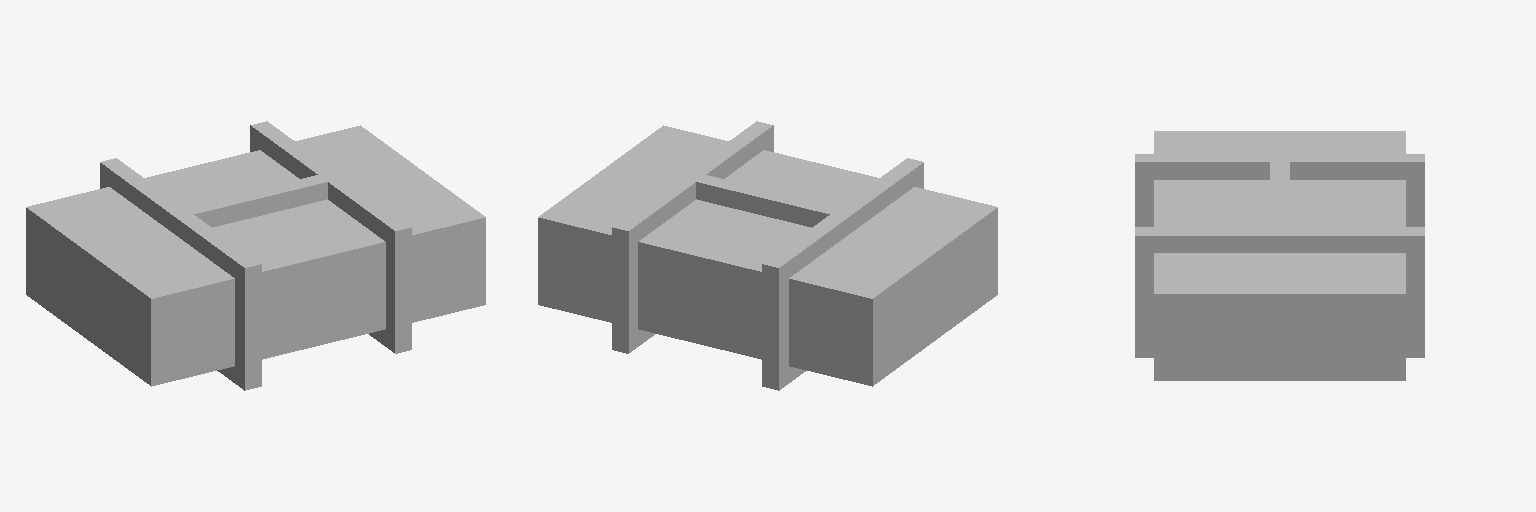
Rendered from money.obj.
The picture shows the model from 3 angles: view 1: azimuth 30°, elevation 25°; view 2: azimuth 150°, elevation 25°; view 3: azimuth 270°, elevation 25°; orthographic projection.
Parts seen in each view (by area): view 1: object 1; view 2: object 1; view 3: object 1.
Part boxes in pixels (x1,y1,x2,y2): object 1: (26,121,485,390); object 1: (538,121,997,390); object 1: (1135,131,1424,380).
Size of the model in its own units: 2 by 0.7 by 1.5.